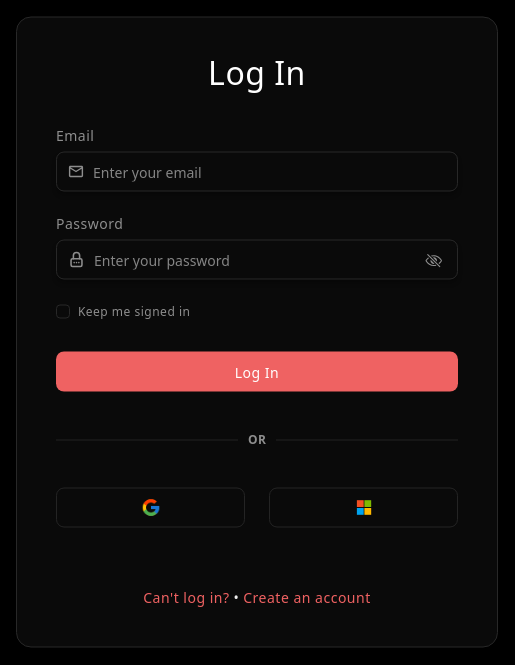
Scenario: LogInContainer › validates email format when submitting the email field form
This screenshot has width=515, height=665.
// Enter an invalid email
In the field labelled "Email": (268, 172) [93,161,443,182], type "not-an-email"
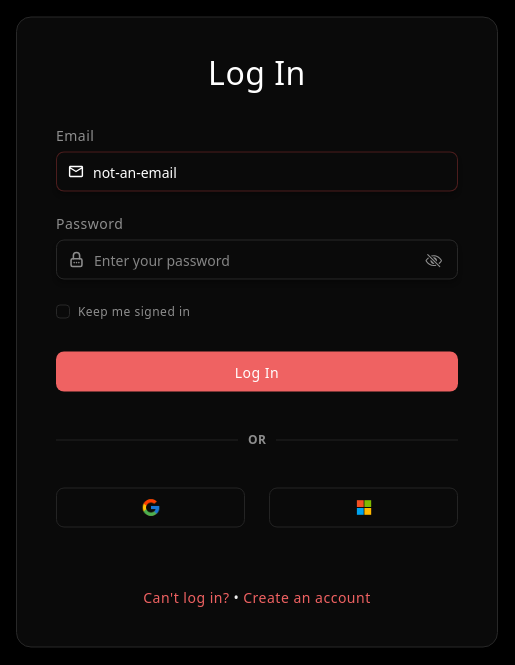
Submit the form labelled "Email", box [56,128,458,192]
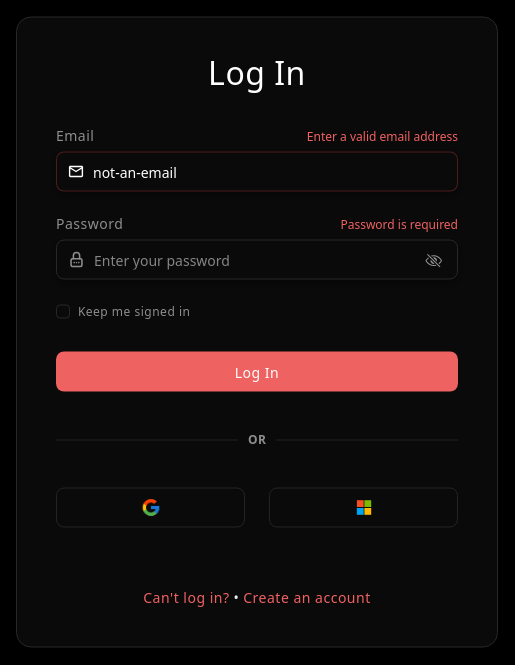
Now the text "Enter a valid email address" is shown, box [307,128,458,144]
